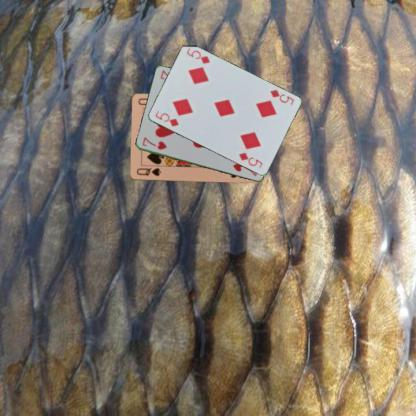5d: (152, 108, 180, 128), (268, 88, 295, 106)
7h: (139, 134, 168, 151)
Qs: (134, 166, 162, 178)
